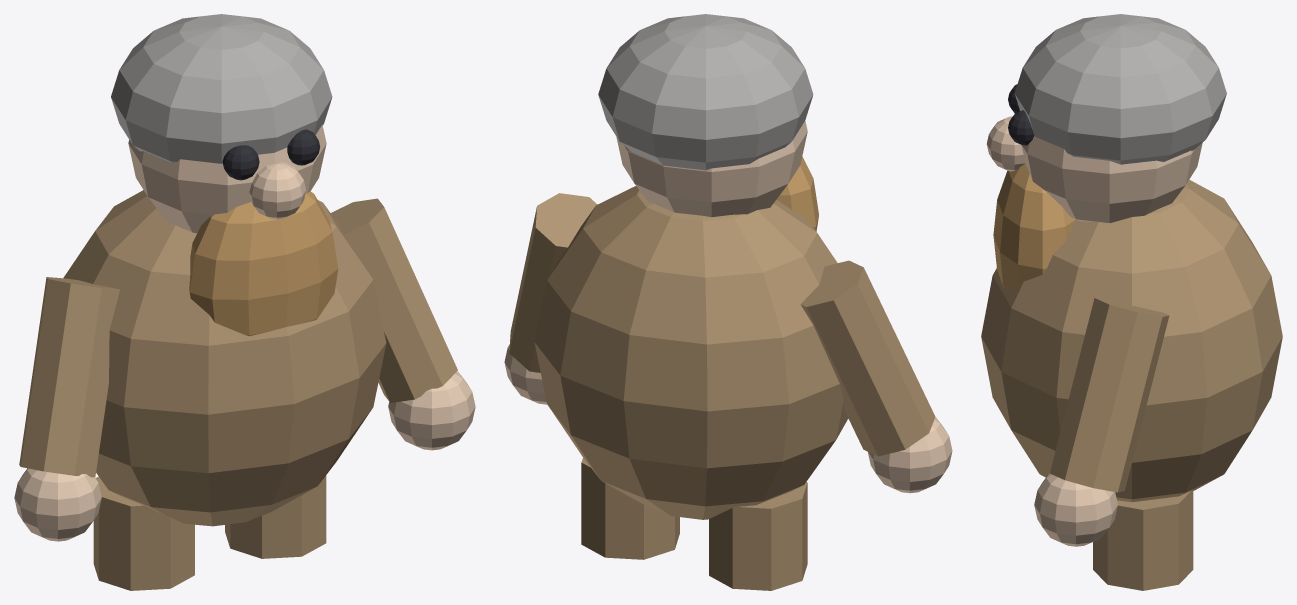
File: creature_dwarf_miner.glb
3 renders of one model, left to right at view 1: azimuth 30°, elevation 25°; view 2: azimuth 150°, elevation 25°; view 3: azimuth 270°, elevation 25°, orthographic. The views are drawn at different scales.
Visible parts, largest first — view 1: creature_dwarf_miner; view 2: creature_dwarf_miner; view 3: creature_dwarf_miner.
Boxes of the visible parts, left/top/right/bottom form: creature_dwarf_miner: left=14, top=14, right=475, bottom=590; creature_dwarf_miner: left=504, top=14, right=952, bottom=590; creature_dwarf_miner: left=981, top=14, right=1282, bottom=590.
Bounding box in the file's own units: 0.8786 × 1 × 0.5331.
